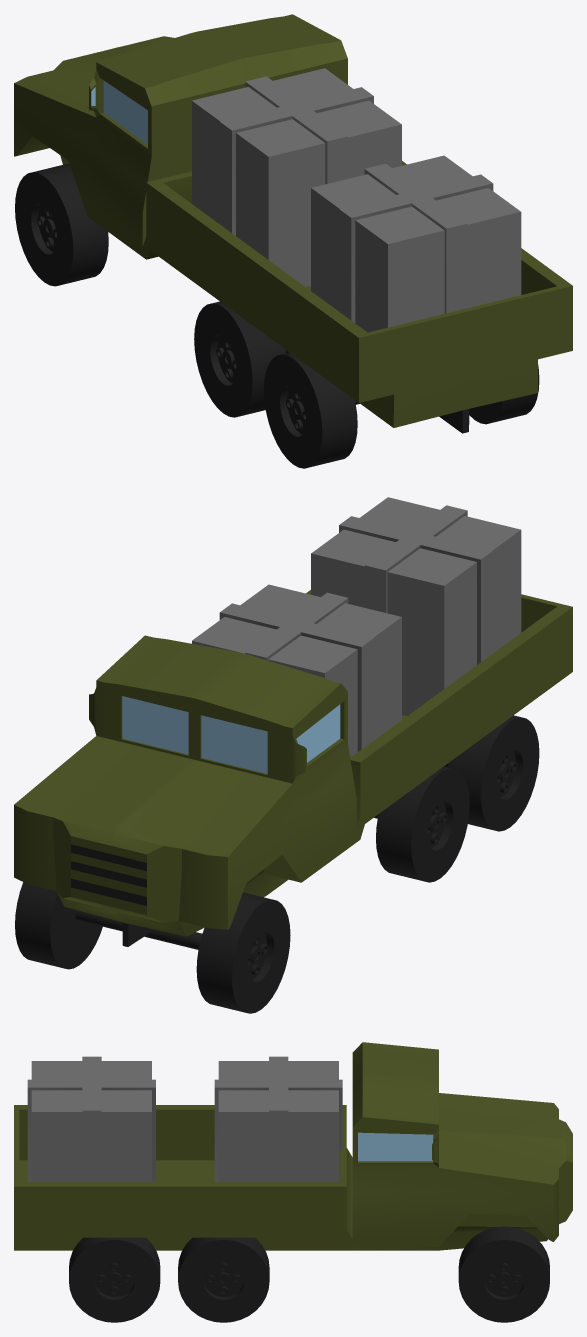
File: truck.fbx
3 views of the same model, one above another, from view 1: azimuth 30°, elevation 25°; view 2: azimuth 150°, elevation 25°; view 3: azimuth 270°, elevation 25° (orthographic). The views are drawn at different scales.
Visible parts, largest first — view 1: Body, Crate R, Crate F, Wheel R, Wheel F, Wheel M; view 2: Body, Crate R, Crate F, Wheel F, Wheel M, Wheel R; view 3: Body, Crate R, Crate F, Wheel F, Wheel M, Wheel R.
Part boxes in pixels (bbox=[...]): Body: bbox=[14, 14, 572, 433]; Crate R: bbox=[311, 155, 521, 332]; Crate F: bbox=[192, 68, 401, 286]; Wheel R: bbox=[264, 352, 539, 468]; Wheel F: bbox=[15, 163, 108, 286]; Wheel M: bbox=[194, 301, 289, 417]; Body: bbox=[14, 590, 572, 946]; Crate R: bbox=[311, 497, 521, 715]; Crate F: bbox=[192, 584, 401, 755]; Wheel F: bbox=[15, 882, 290, 1013]; Wheel M: bbox=[374, 766, 469, 882]; Wheel R: bbox=[444, 715, 539, 831]; Body: bbox=[14, 1042, 572, 1250]; Crate R: bbox=[27, 1056, 155, 1181]; Crate F: bbox=[214, 1056, 342, 1181]; Wheel F: bbox=[458, 1226, 549, 1322]; Wheel M: bbox=[178, 1237, 269, 1322]; Wheel R: bbox=[69, 1237, 160, 1322].
Bounding box in the file's own units: 83.99 × 97.46 × 239.
